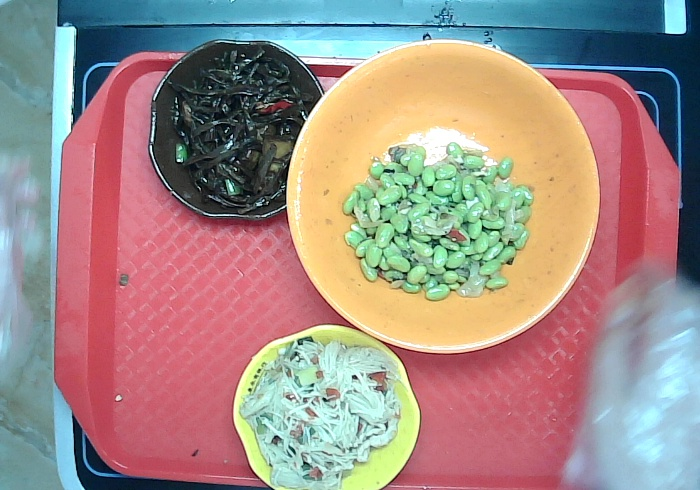YKMZ-Huang_Se_Ao_Bian_Wan: (229, 323, 422, 490)
YKMZ-Ju_Se_Tang_Wan: (285, 38, 602, 358)
YKMZ-Ka_Fei_Ao_Bian_Wan: (145, 37, 327, 221)
